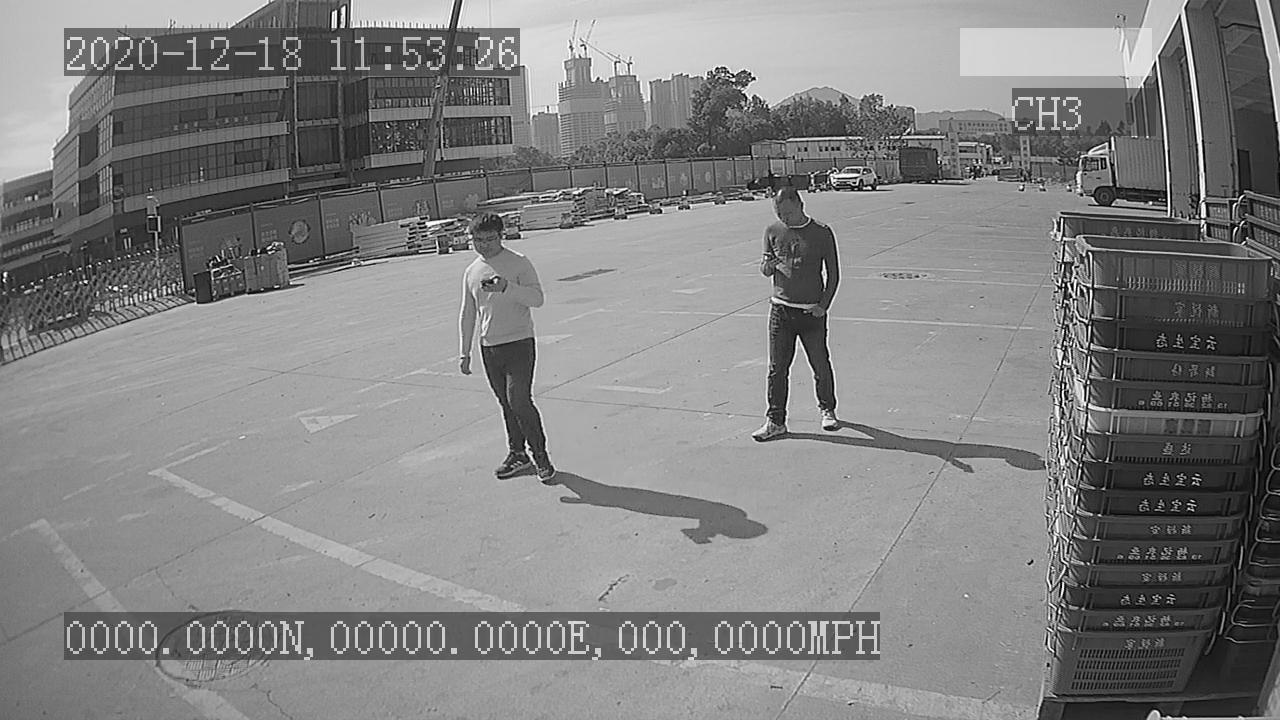person: (449, 202, 565, 490), (743, 185, 849, 442)
